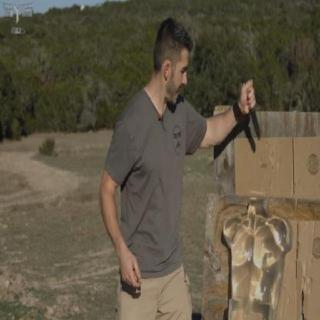knife: (243, 78, 263, 140)
